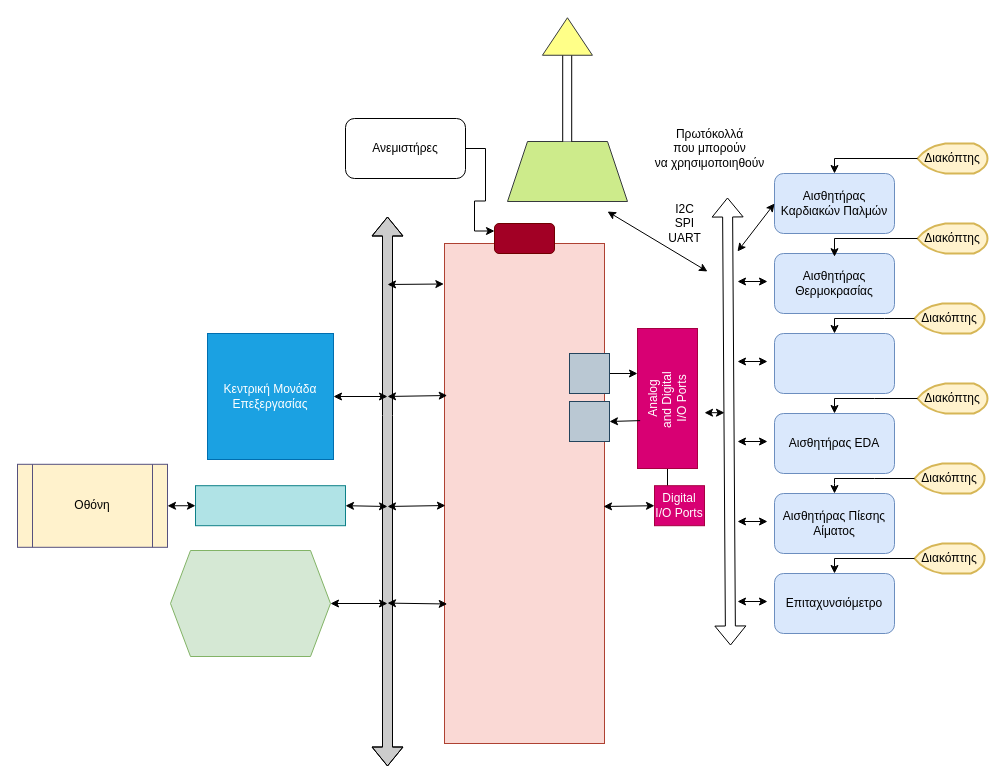
Some shapes in this 1006 by 784 pixel diagram are drawn without their labels. The shapes that lost their labels are listed below. From the top down, each one's box as (x1, y1, x2, y2) in pixels, then its label:
(506, 140, 628, 202): Wi-Fi Module
(494, 222, 554, 254): Άλλες I/O Ports
(568, 352, 610, 394): D/A
(774, 332, 894, 394): Αισθητήρας SpO2
(568, 400, 610, 442): A/D
(194, 485, 346, 526): Μνήμη Πρωσορινής Αποθήκευση Πλαισίων
(444, 242, 604, 744): Μικροελεγκτής
(170, 550, 330, 656): Μπαταρία
